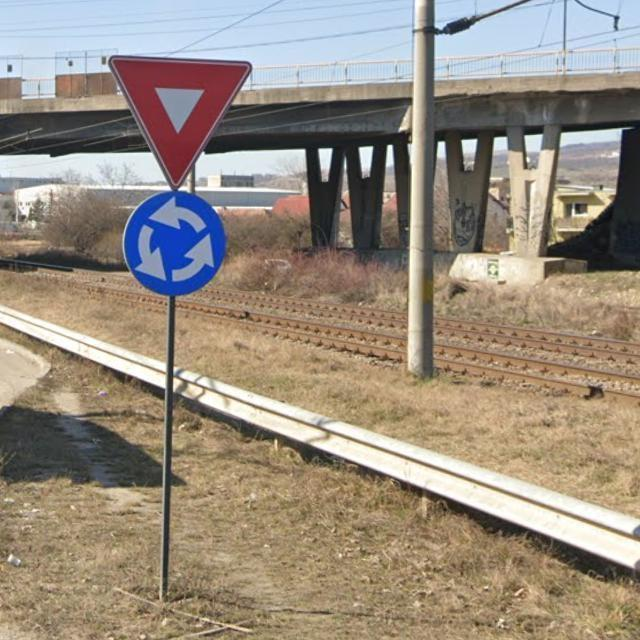prio_give_way: (106, 52, 249, 193)
